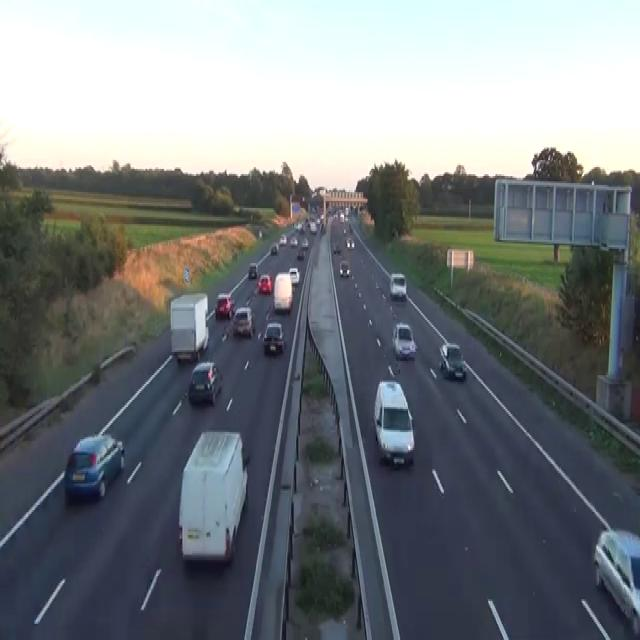Car: (593, 528, 639, 624), (64, 432, 125, 501), (373, 378, 415, 468), (188, 361, 222, 405), (438, 341, 466, 379), (392, 322, 417, 359), (232, 306, 255, 338), (263, 322, 285, 354), (215, 292, 235, 318), (389, 272, 406, 299), (257, 274, 272, 293), (339, 260, 350, 278), (288, 266, 299, 284), (248, 261, 257, 279), (346, 236, 355, 249), (296, 247, 304, 260), (270, 242, 278, 254), (279, 233, 287, 245), (301, 236, 308, 249), (289, 237, 298, 247), (294, 221, 303, 231), (332, 242, 340, 252), (309, 222, 316, 233), (320, 222, 326, 233), (300, 222, 306, 231), (339, 212, 344, 222), (344, 206, 349, 215), (350, 238, 355, 247), (258, 228, 262, 238), (333, 210, 338, 218), (346, 238, 350, 247), (343, 226, 346, 234)
Truck: (177, 428, 248, 564), (169, 292, 209, 362), (273, 272, 293, 313)
